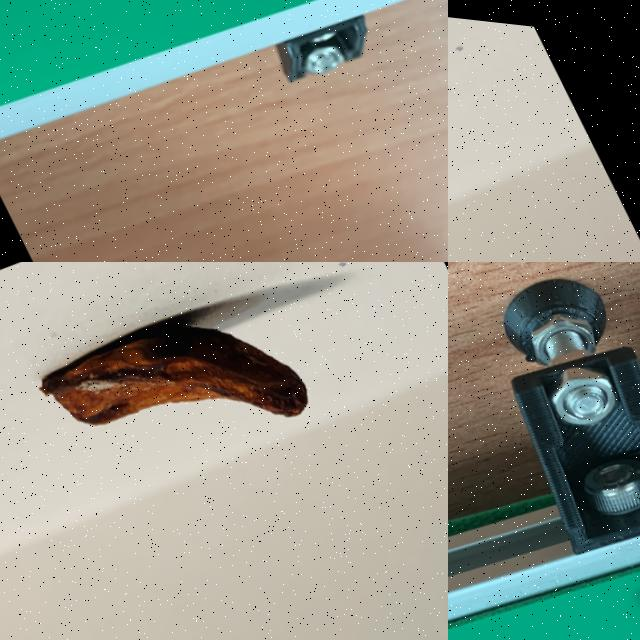Fine_cocoabeans: (134, 0, 430, 59)
Flat_cocoabeans: (0, 262, 397, 563)
